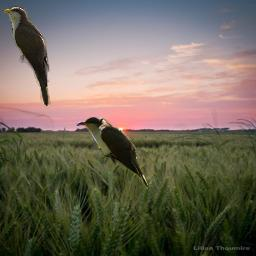Cuckoo: (75, 117, 148, 190), (1, 6, 52, 108)
